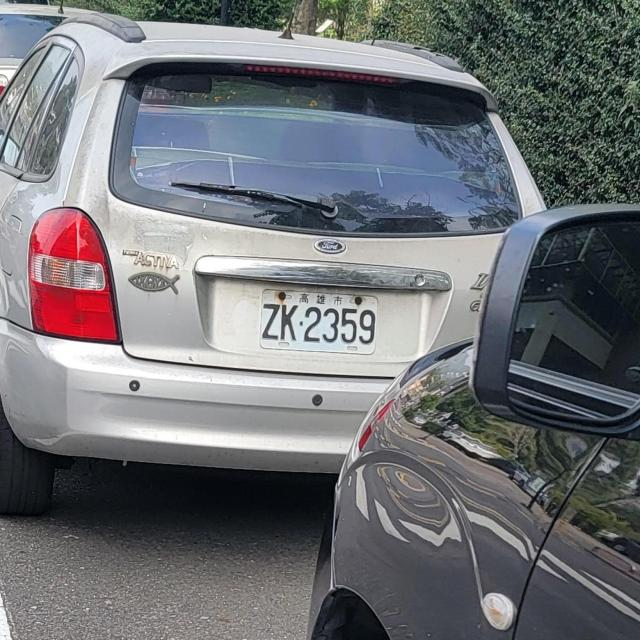W: (254, 282, 382, 359)
